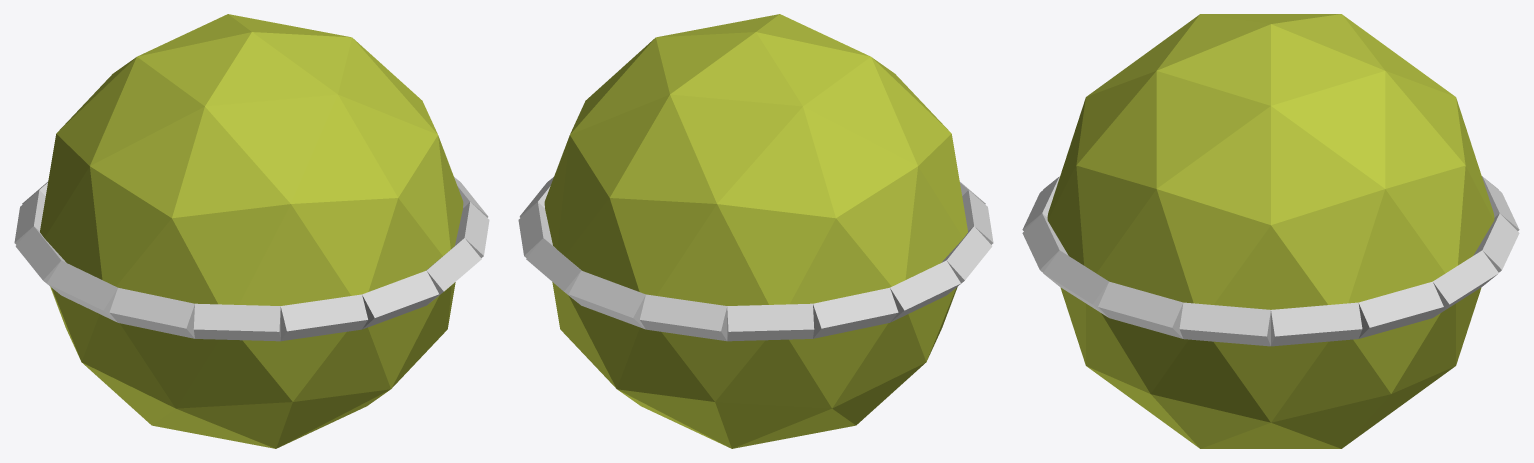
The model's file is tennis-ball.glb.
The picture shows the model from 3 angles, left to right: view 1: azimuth 30°, elevation 25°; view 2: azimuth 150°, elevation 25°; view 3: azimuth 270°, elevation 25°; orthographic projection. The views are drawn at different scales.
Visible parts, largest first — view 1: tennis-ball; view 2: tennis-ball; view 3: tennis-ball.
Boxes of the visible parts, x1,y1,x2,y2 form: tennis-ball: (14,14,489,448); tennis-ball: (518,14,993,448); tennis-ball: (1022,14,1519,448).
Bounding box in the file's own units: 0.0739 × 0.068 × 0.0739.
